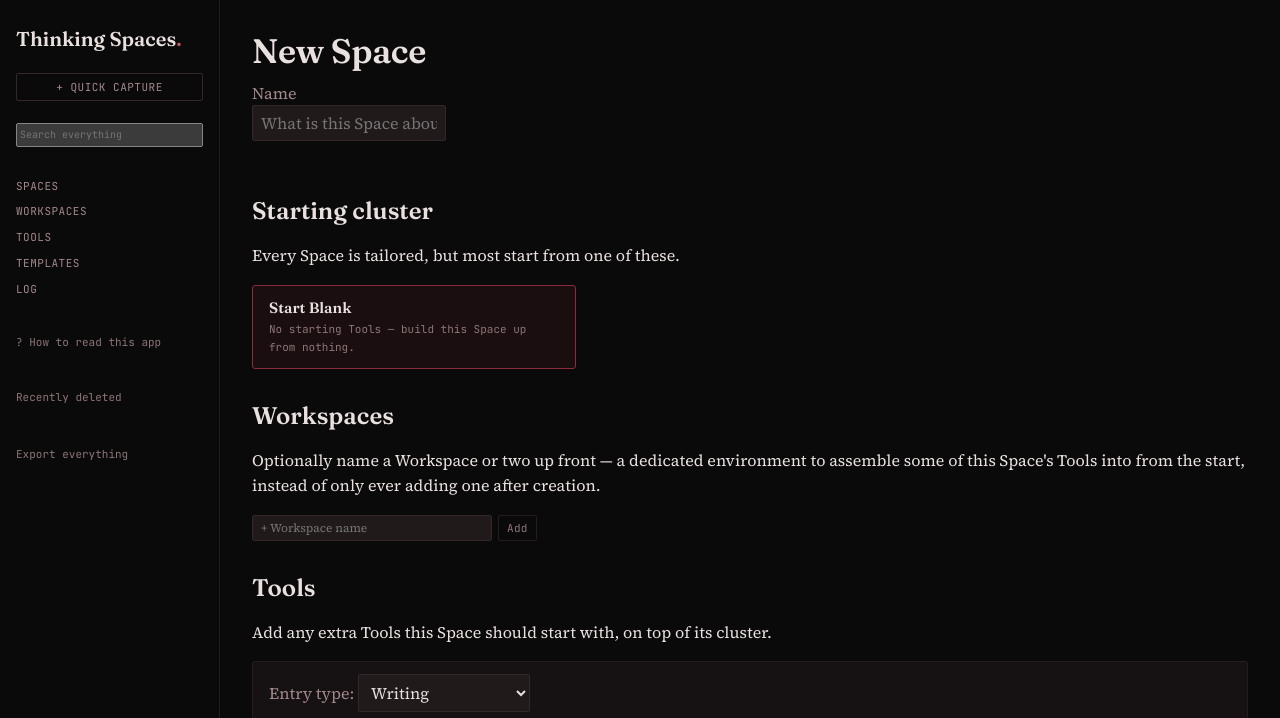
it: CreateSpace: submitting › shows an error and re-enables the form when creation fails
Check: the heading "Start Blank" is shown, box x1=269 y1=298 x2=351 y2=317
Type "X" into the field with placeholder "What is this Space about?". click: (349, 123)
box: x1=252 y1=105 x2=446 y2=141
(page scrolled)
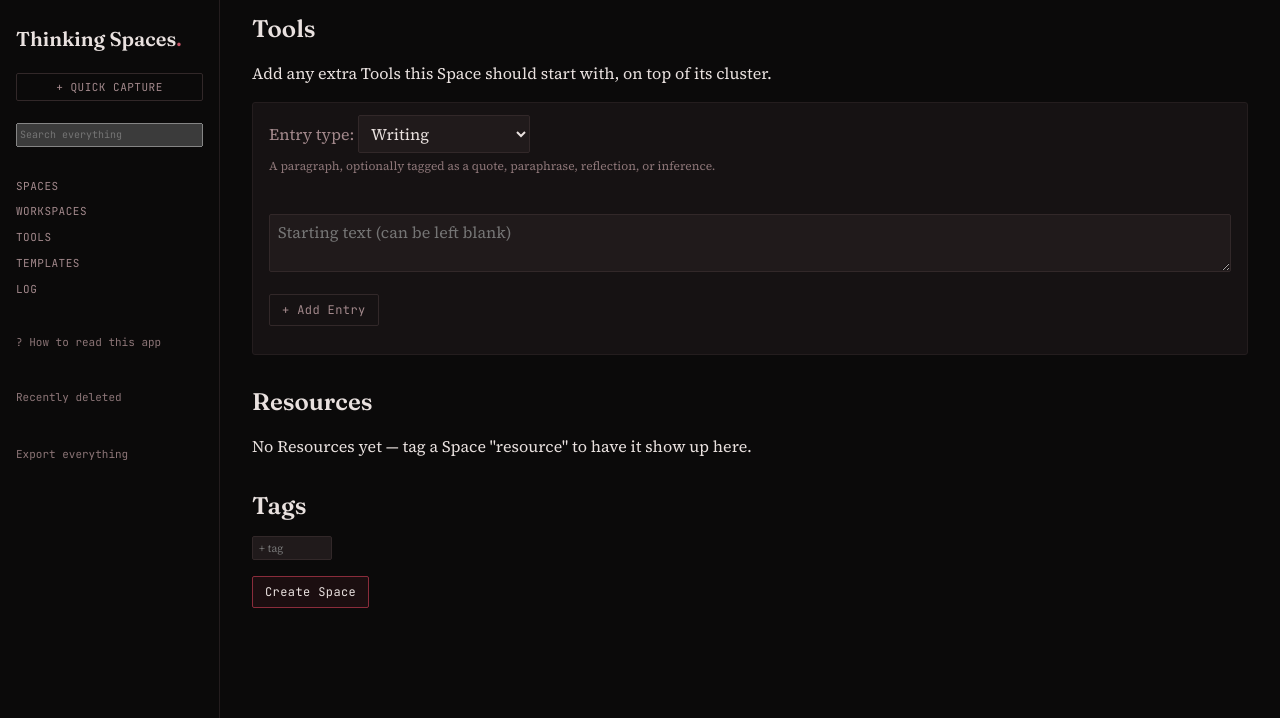
Click the button "Create Space". click: (311, 592)
box: x1=252 y1=576 x2=369 y2=608
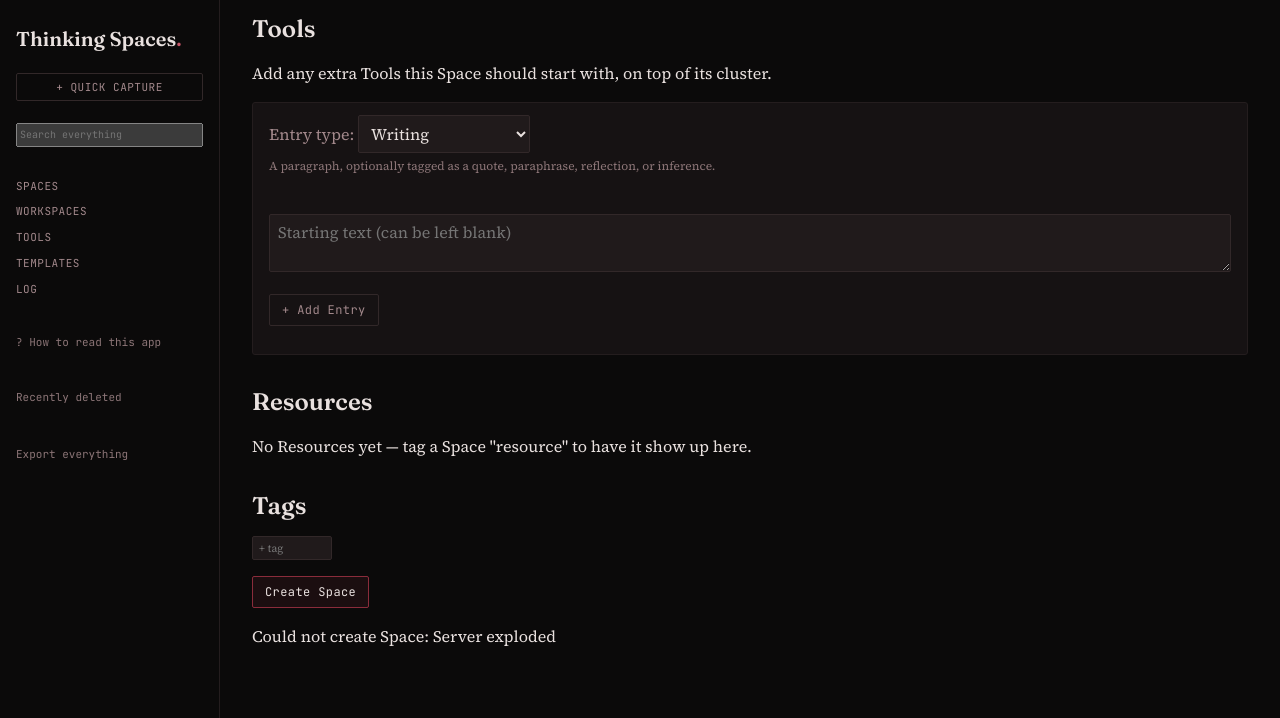
Check: the button "Create Space" is enabled, box x1=252 y1=576 x2=369 y2=608
Check: the text "Could not create Space: Server exploded" is shown, box x1=252 y1=626 x2=556 y2=648
